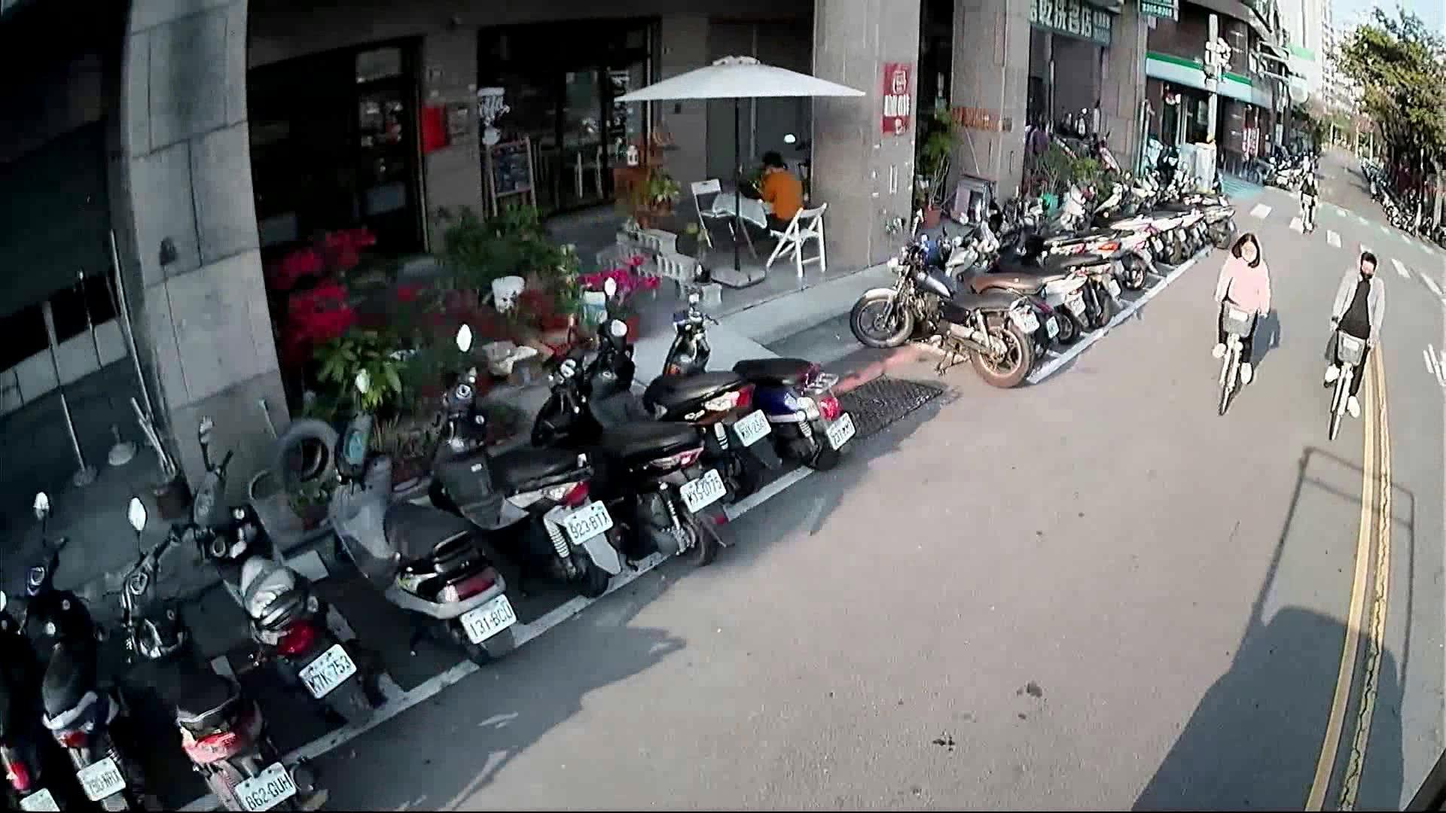person: (1319, 247, 1387, 416), (1207, 228, 1276, 385), (732, 139, 809, 253), (1297, 169, 1318, 226)
